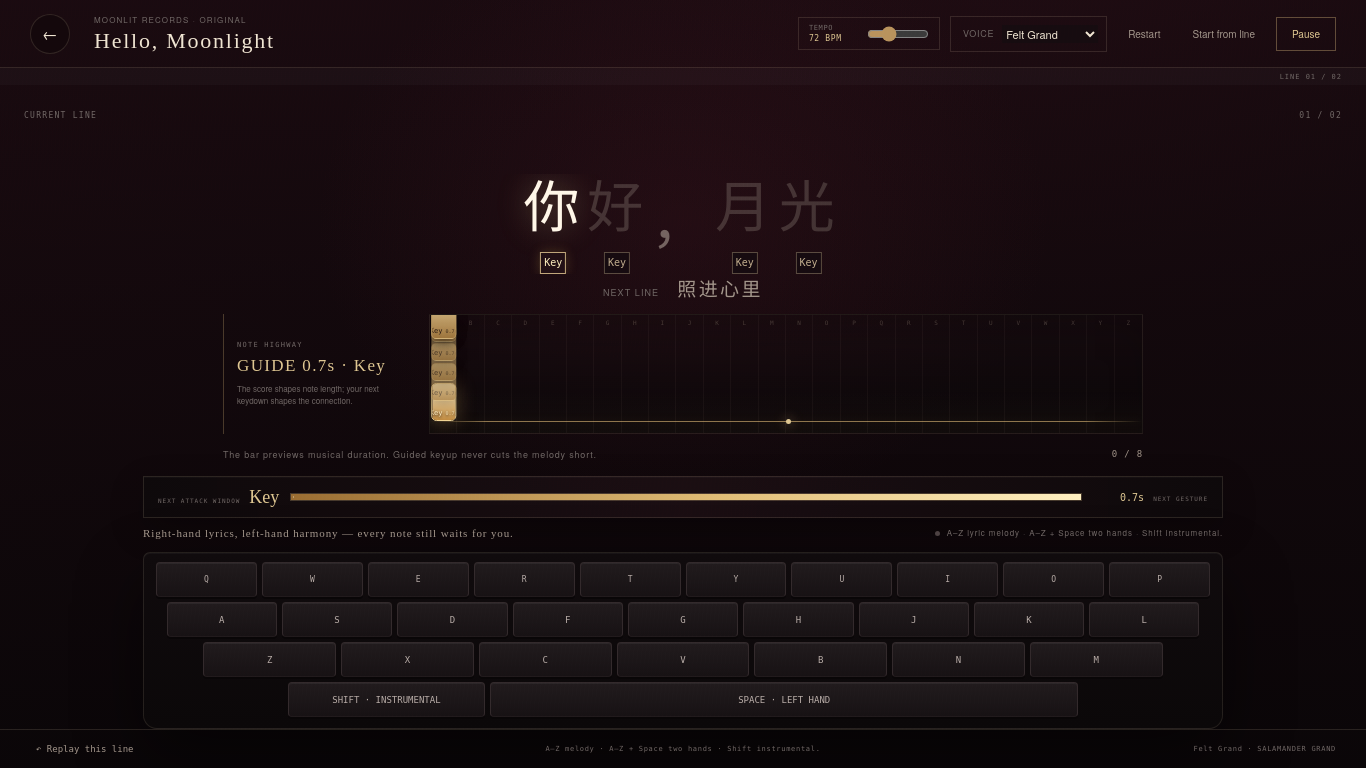
PlayerShell › supports pause without consuming a lyric step
The image size is (1366, 768).
Click the button "Pause" at (1306, 34), box [1276,16,1336,50]
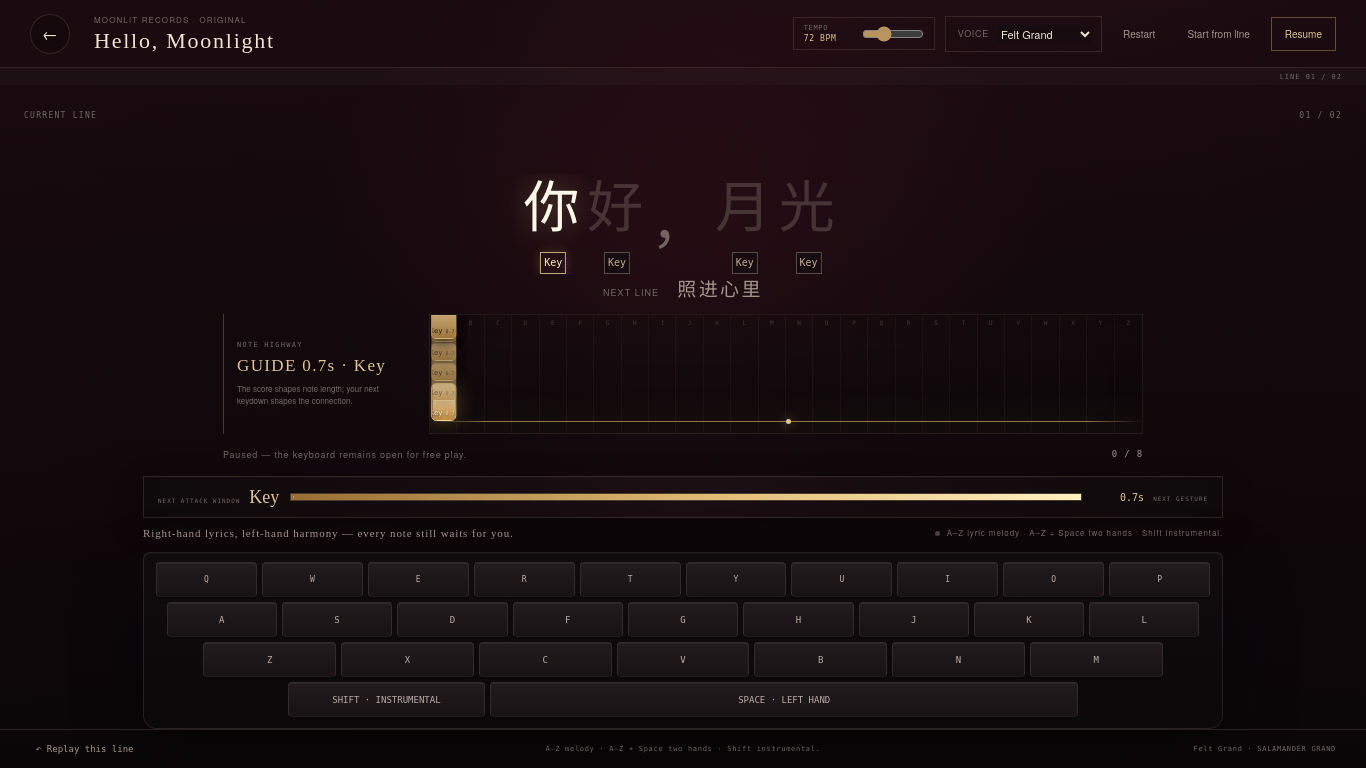
Expected: the text "0 / 8" is shown, [1112,449,1143,459]
Expected: the text "Paused — the keyboard remains open for free play." is shown, [223,448,467,460]
